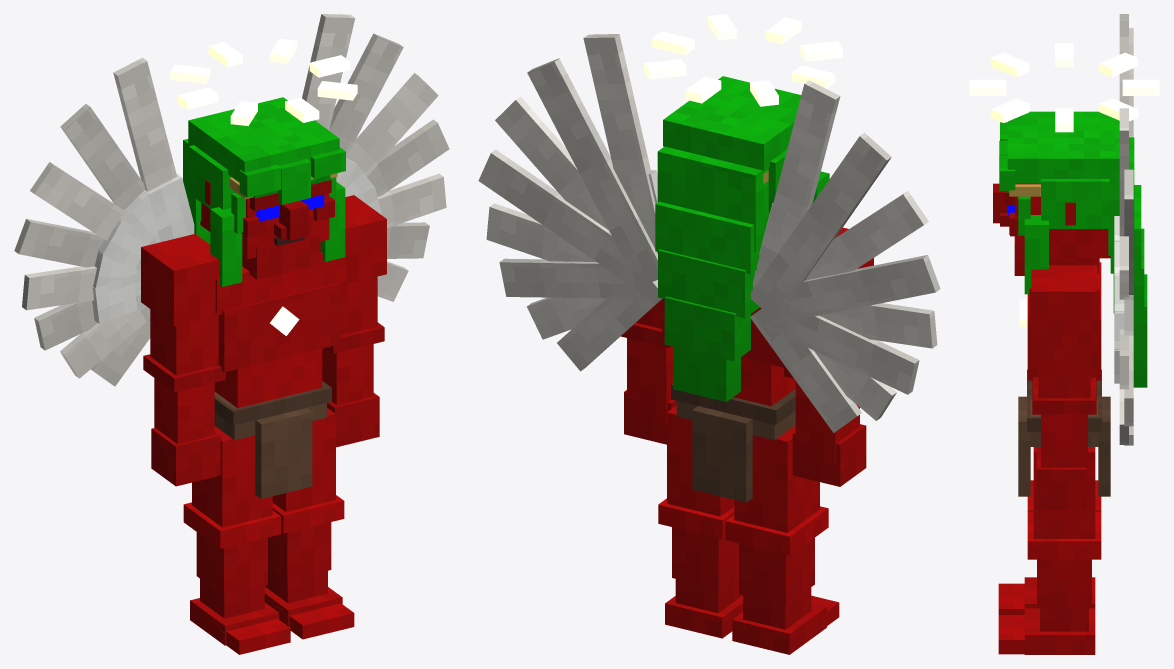
The model's file is angel_s0_evo1.glb.
3 renders of one model, left to right at view 1: azimuth 30°, elevation 25°; view 2: azimuth 150°, elevation 25°; view 3: azimuth 270°, elevation 25°, orthographic. The views are drawn at different scales.
Visible parts, largest first — view 1: Torso, Head, ArmR, LegR, LegL, ArmL; view 2: Torso, Head, LegR, LegL, ArmL, ArmR; view 3: Head, ArmL, Torso, LegL, LegR.
Part boxes in pixels (box(x1,y1,x2,y2)): Torso: box(14, 14, 449, 498); Head: box(170, 38, 357, 286); ArmR: box(141, 234, 225, 486); LegR: box(183, 426, 290, 654); LegL: box(264, 407, 354, 639); ArmL: box(322, 195, 386, 447); Torso: box(478, 34, 940, 502); Head: box(644, 14, 842, 401); LegR: box(725, 425, 839, 654); LegL: box(658, 405, 742, 638); ArmL: box(620, 299, 676, 444); ArmR: box(784, 227, 873, 486); Head: box(969, 43, 1159, 387); ArmL: box(1031, 265, 1097, 509); Torso: box(1018, 14, 1133, 496); LegL: box(998, 447, 1101, 654); LegR: box(998, 480, 1101, 614).
Bounding box in the file's own units: 1.63 × 2.02 × 0.6201.
Materials: 27 (27 with a texture image).
